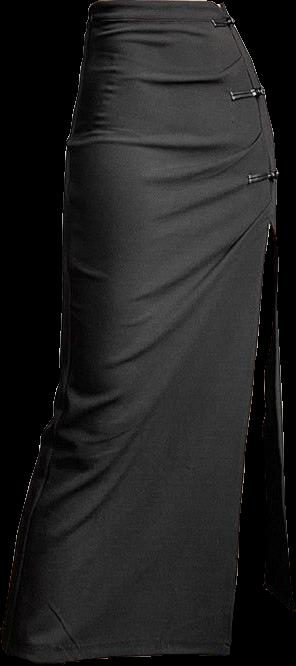Hemline: (0, 219, 295, 665)
Waistline: (86, 16, 235, 28), (90, 0, 227, 10)
